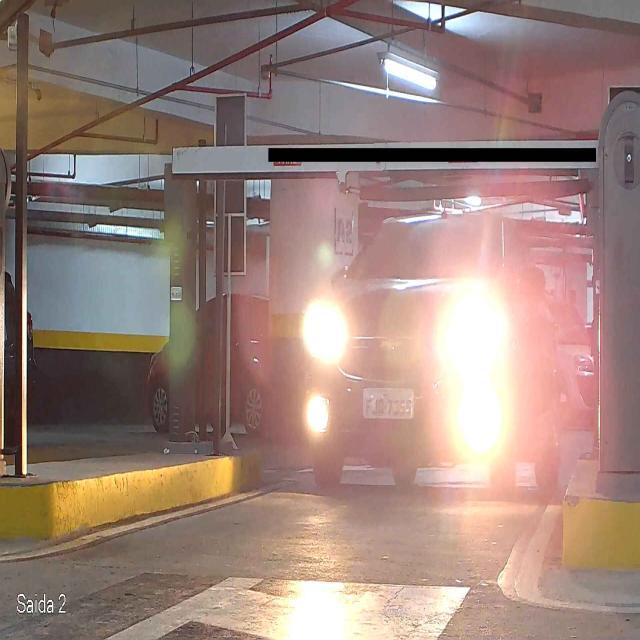old_plate: (361, 387, 416, 420)
